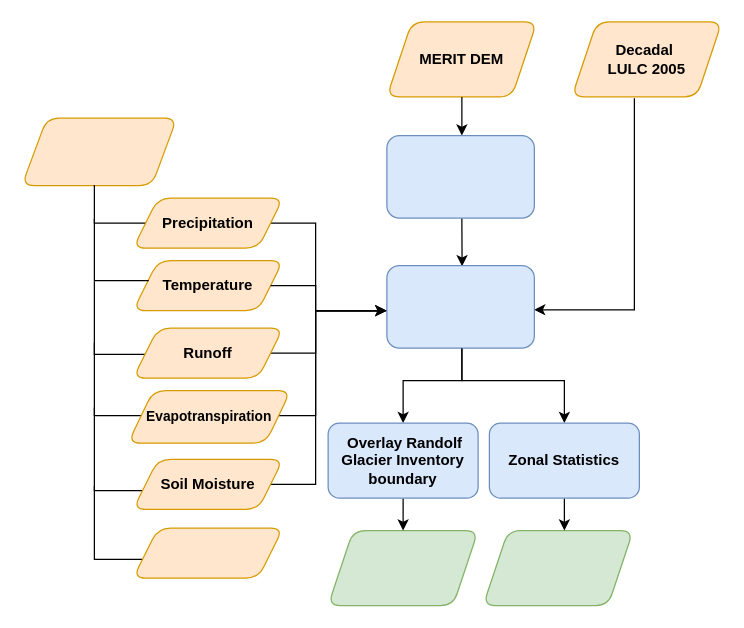
The diagram is 744 pixels wide and 628 high, and some of its shapes have lost their labels. The centre of each missing label's shape, as x and y in pixels:
Clipped according to NWH basins boundary: the point at 460,306
FLDAS Climate variables: the point at 99,151
Snow Depth: the point at 207,552
Watershed Delineation for 9 NWH basins: the point at 460,176
